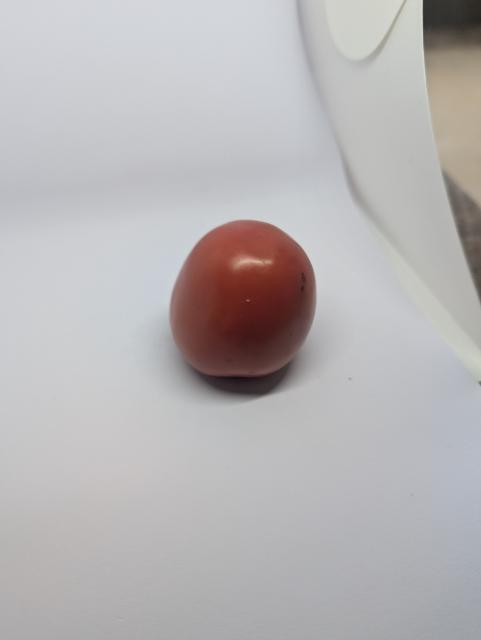red: (146, 198, 370, 417)
